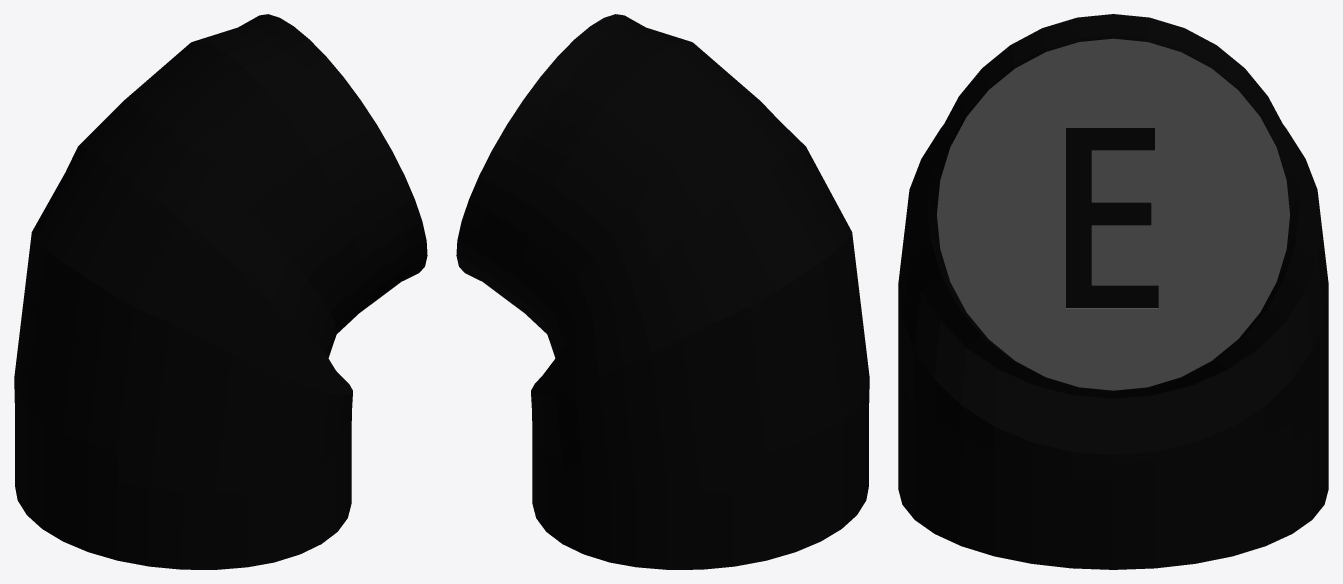
The picture shows the model from 3 angles, left to right: view 1: azimuth 30°, elevation 25°; view 2: azimuth 150°, elevation 25°; view 3: azimuth 270°, elevation 25°; orthographic projection. The views are drawn at different scales.
Visible parts, largest first — view 1: 圆环; view 2: 圆环; view 3: 圆环.
Part boxes in pixels (left/top/right/bottom): 圆环: left=14, top=14, right=427, bottom=569; 圆环: left=456, top=14, right=869, bottom=569; 圆环: left=898, top=14, right=1328, bottom=569.
Bounding box in the file's own units: 261 × 321 × 244.
3 materials, 1 textured.
